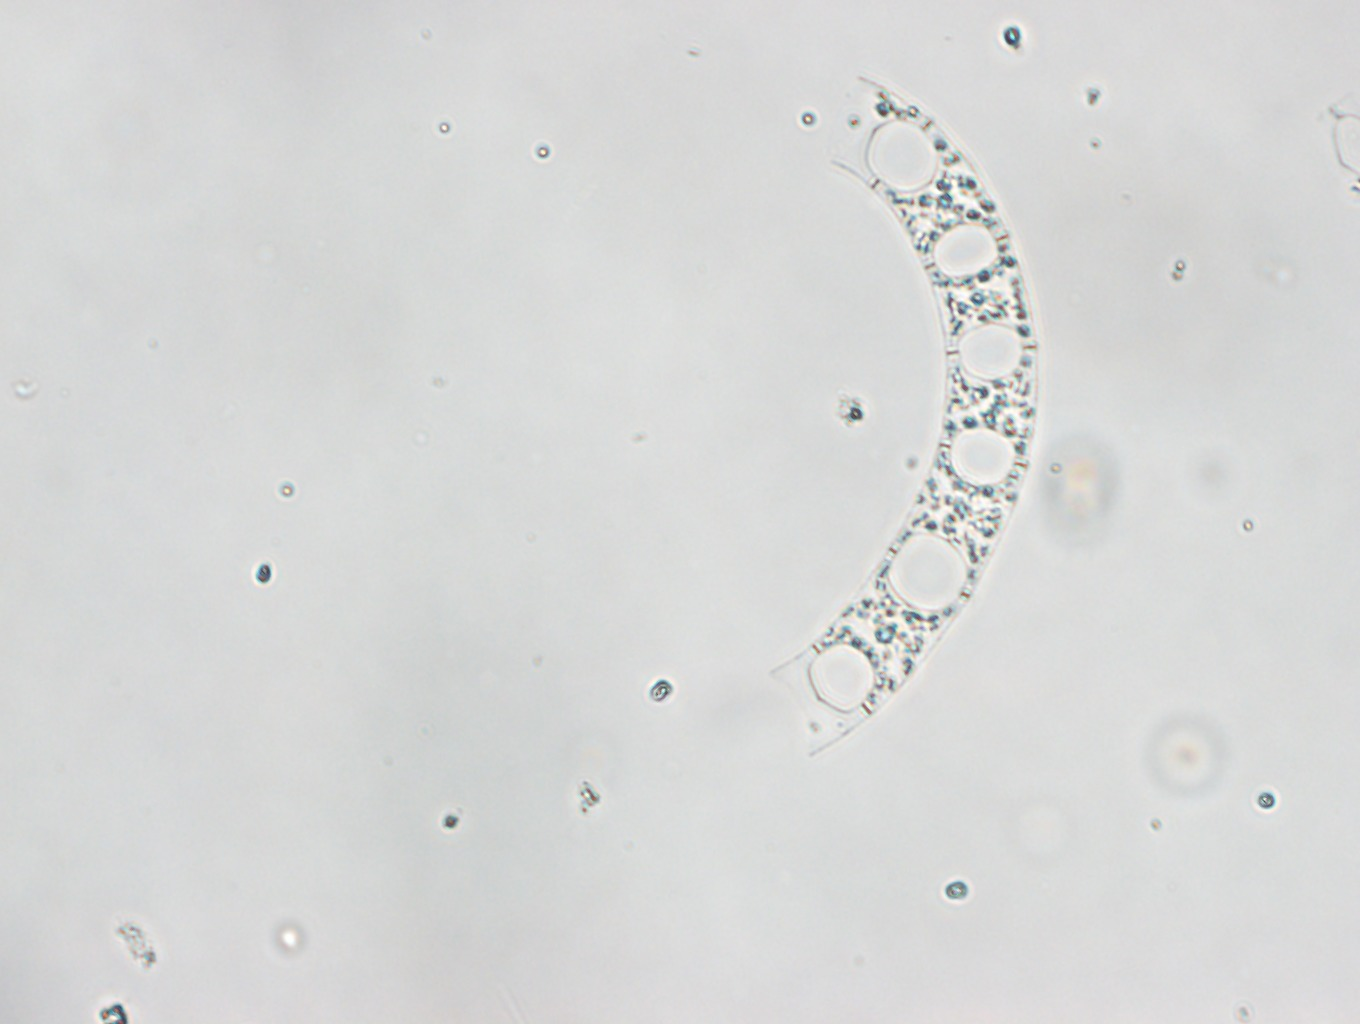eucampia: (768, 70, 1040, 756)
